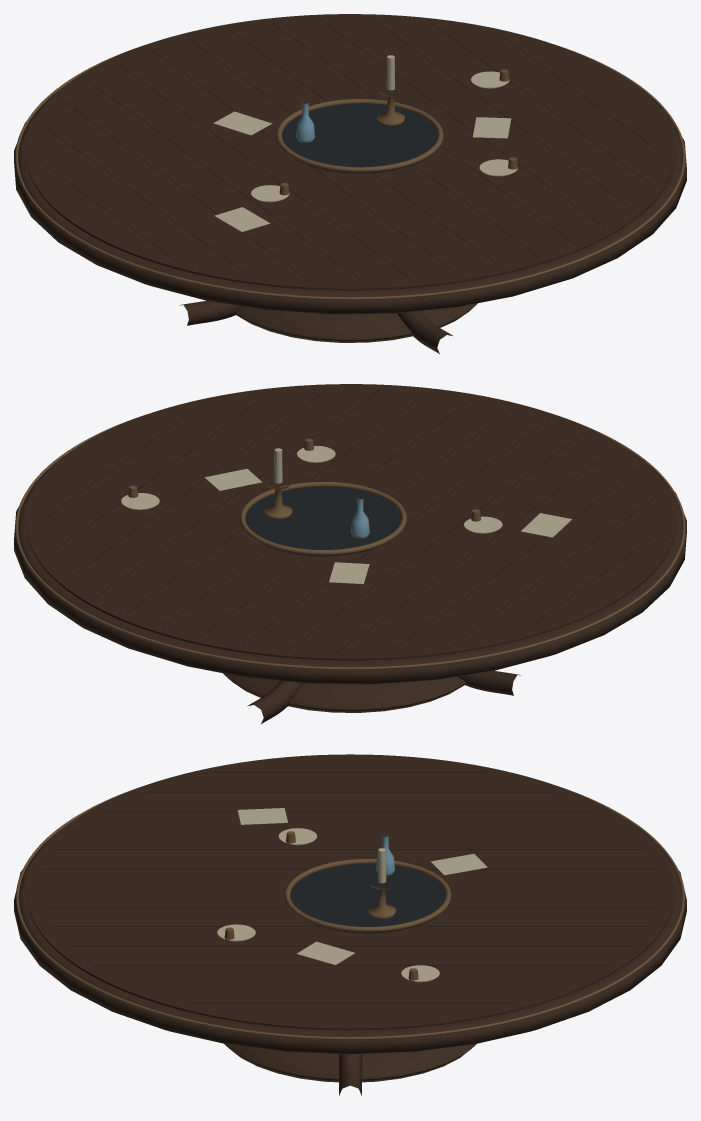
Rendered from round-table.glb.
3 renders of one model, top to bottom at view 1: azimuth 30°, elevation 25°; view 2: azimuth 150°, elevation 25°; view 3: azimuth 270°, elevation 25°, orthographic.
Visible parts, largest first — view 1: round-table, carved-foot (×2); view 2: round-table, carved-foot (×2); view 3: round-table, carved-foot.
Part boxes in pixels (box(x1,y1,x2,y2)): round-table: box(14, 14, 686, 342); carved-foot (×2): box(180, 300, 453, 353); round-table: box(14, 384, 686, 712); carved-foot (×2): box(247, 670, 520, 723); round-table: box(14, 754, 686, 1082); carved-foot: box(339, 1054, 361, 1095).
Size of the model in its own units: 3.84 by 1.29 by 3.84.
